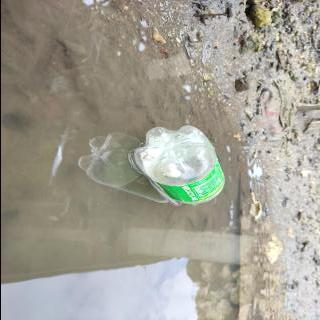bottle: (126, 122, 229, 208)
